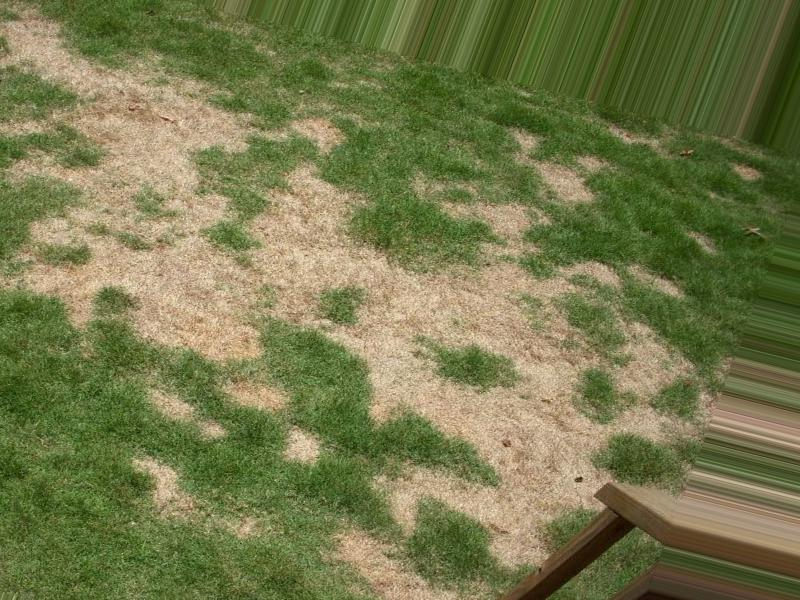patch: (293, 204, 406, 367), (108, 242, 277, 347), (94, 109, 204, 230), (412, 447, 540, 518), (19, 26, 104, 92), (425, 285, 516, 345), (379, 374, 487, 422), (34, 220, 90, 311), (509, 370, 582, 439), (480, 200, 530, 251)
